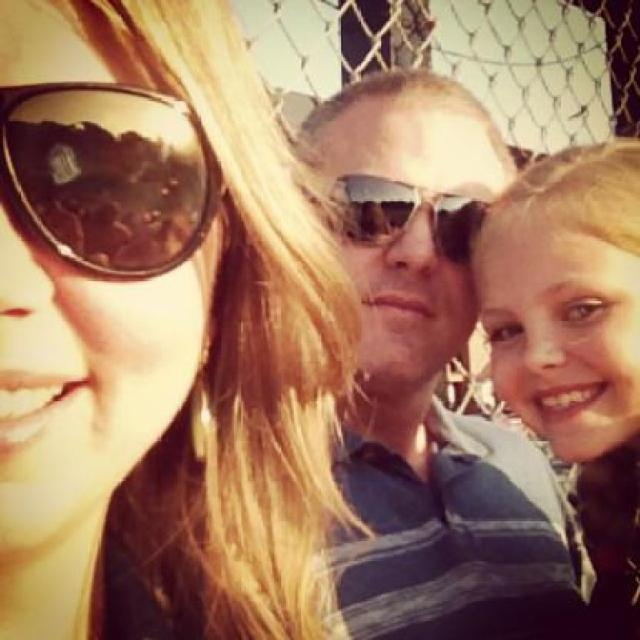face_nomask: (310, 164, 501, 350), (481, 280, 640, 439)
glasses: (0, 76, 229, 287), (303, 156, 519, 281)
head_nohelmet: (466, 113, 640, 265), (281, 61, 528, 141)
